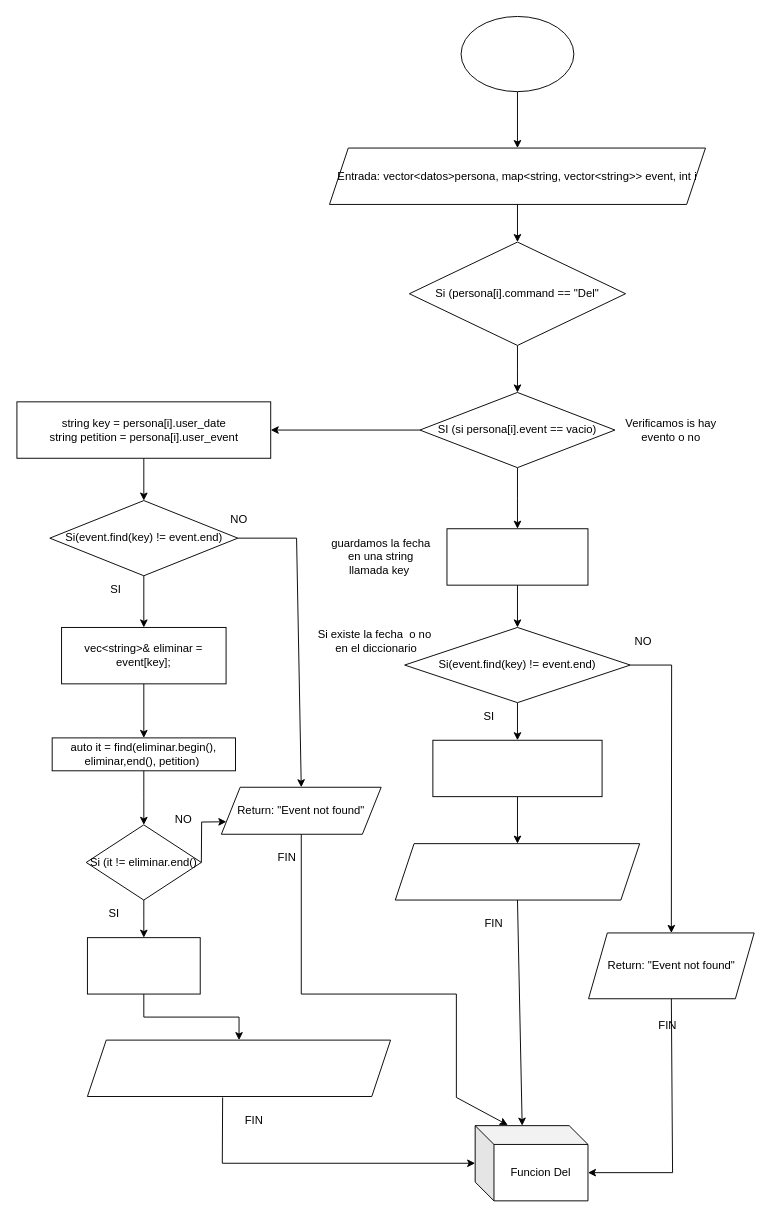
This 771x1217 diagram has some shape labels left out. The centre of each missing label's shape, as x and y in pixels:
Eliminar.erase(it): point 143,965
INICIO: point 517,54
int tamanho = event[key].size() event.erase(key);: point 517,768
Return: deleted succesfully: point 238,1068
Return:"Deleted" + tamanho + "elements": point 517,871
String key = persona[i].user_event: point 517,556
